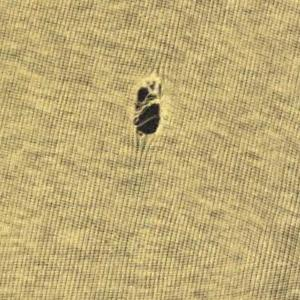hole: (129, 74, 169, 148)
